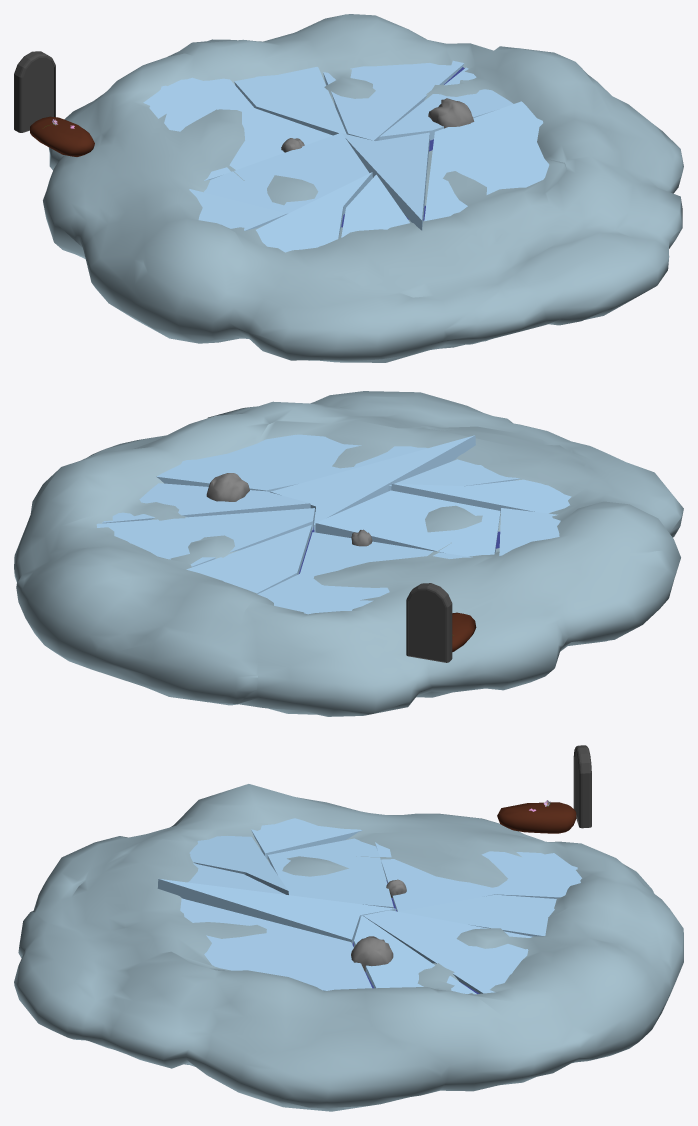
The model's file is Estanque Hielo.fbx.
The picture shows the model from 3 angles, top to bottom: view 1: azimuth 30°, elevation 25°; view 2: azimuth 150°, elevation 25°; view 3: azimuth 270°, elevation 25°; orthographic projection. The views are drawn at different scales.
Parts seen in each view (by area): view 1: Estanque helado; view 2: Estanque helado; view 3: Estanque helado.
Boxes of the visible parts, x1,y1,x2,y2 form: Estanque helado: [14, 14, 683, 362]; Estanque helado: [14, 391, 683, 716]; Estanque helado: [14, 745, 683, 1111].
Size of the model in its own units: 27.96 by 8.21 by 28.82.
